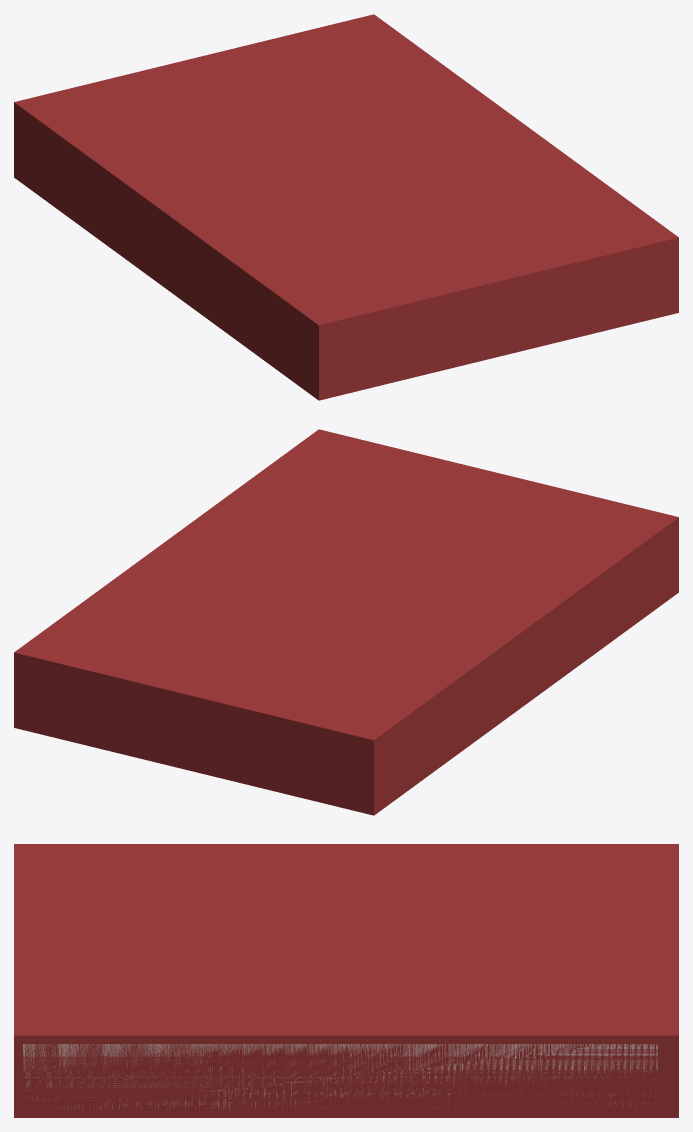
File: book.glb
3 views of the same model, one above another, from view 1: azimuth 30°, elevation 25°; view 2: azimuth 150°, elevation 25°; view 3: azimuth 270°, elevation 25° (orthographic). The views are drawn at different scales.
Size of the model in its own units: 0.15 by 0.03 by 0.22.
